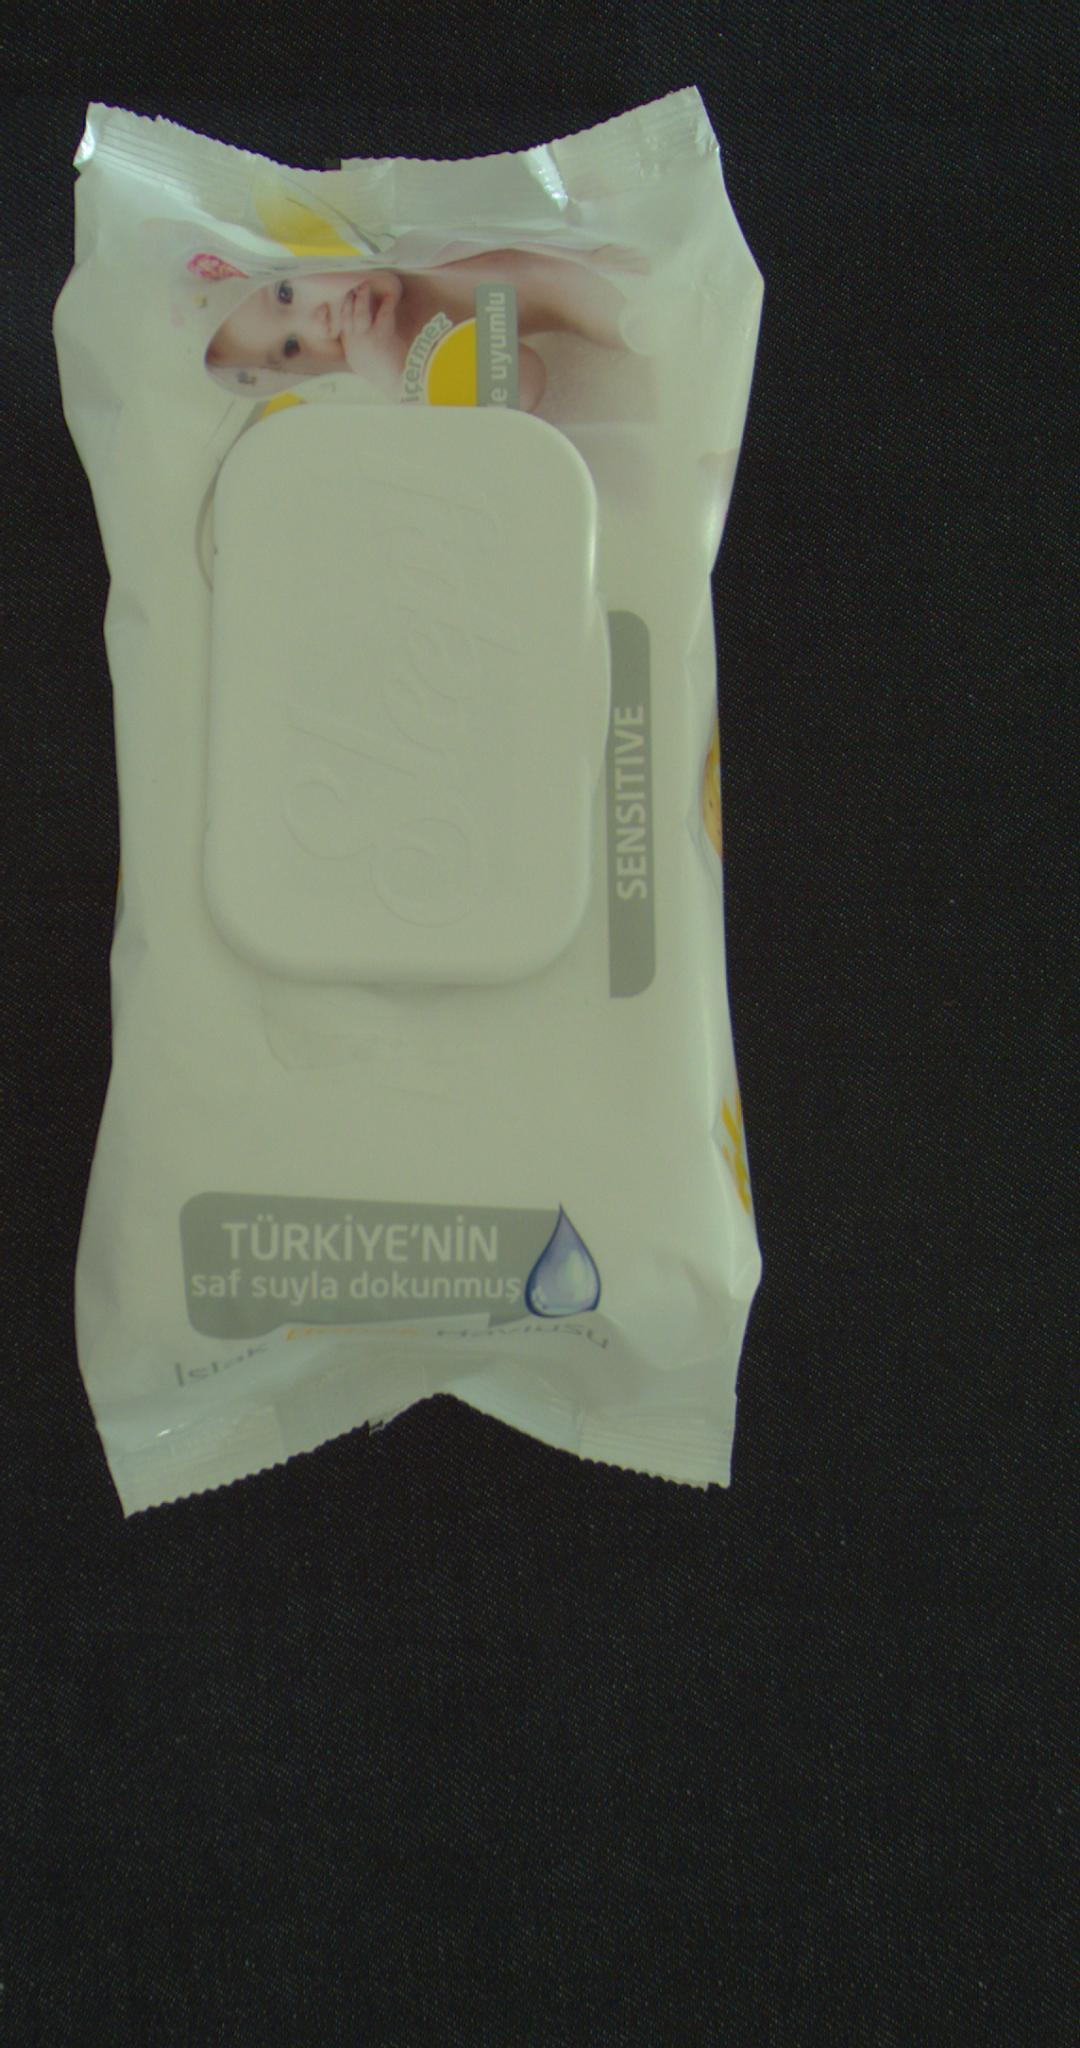kapak: (199, 406, 603, 996)
